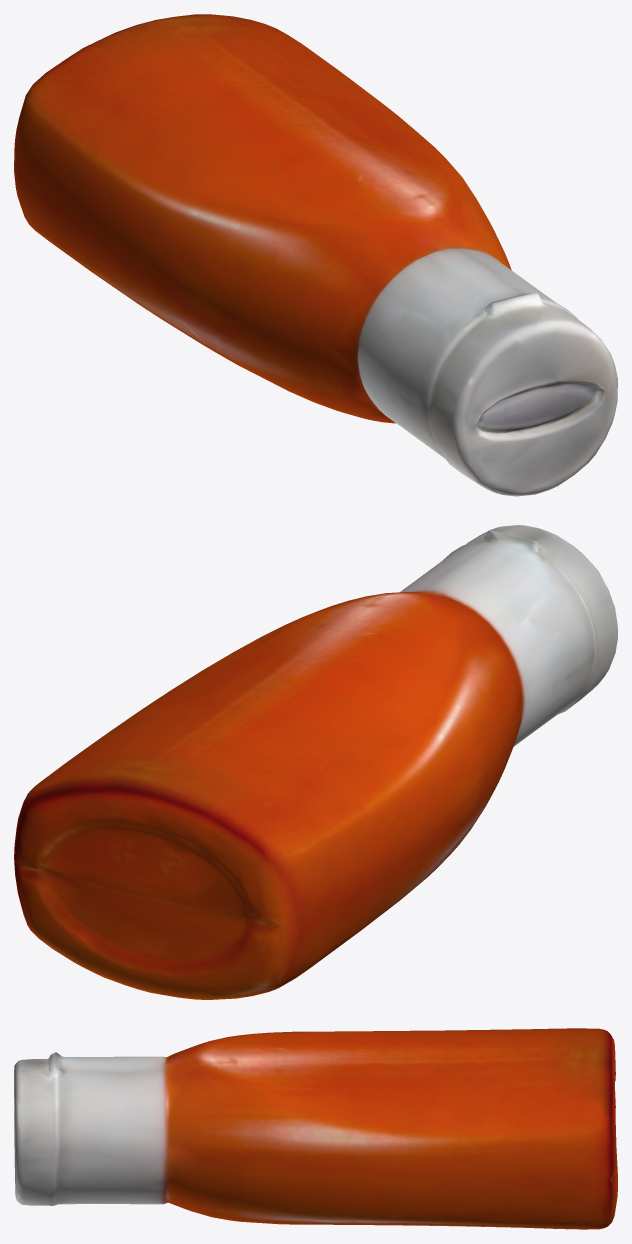
File: Ketchup_cm_y2.obj
3 renders of one model, top to bottom at view 1: azimuth 30°, elevation 25°; view 2: azimuth 150°, elevation 25°; view 3: azimuth 270°, elevation 25°, orthographic. The views are drawn at different scales.
Size of the model in its own units: 0.0645 by 0.0434 by 0.1486.
Materials: 1 (1 with a texture image).
